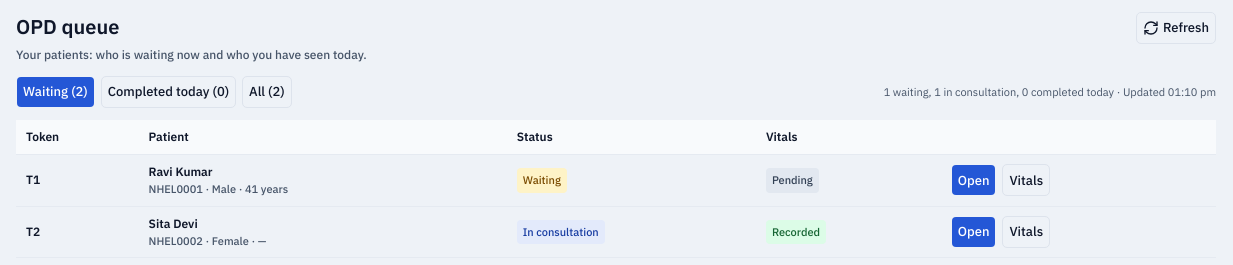
Scenario: OpdQueue › one refresh at a time: the button is disabled while it runs
Click the button "Refresh". click: click(1176, 28)
box: [1136,12,1216,44]
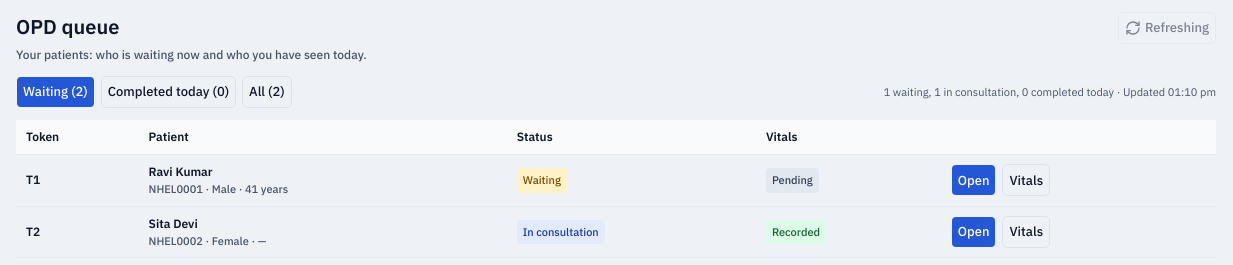
Expected: the button "Refreshing" is disabled
Click the button "Refreshing". click: click(1167, 28)
box: [1118,12,1216,44]
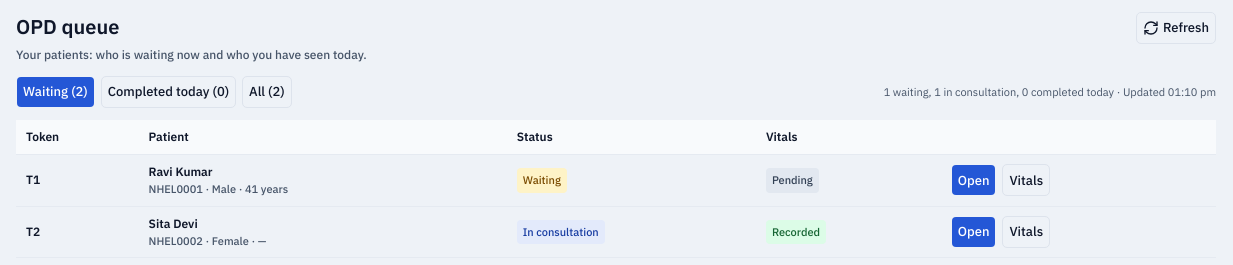
Expected: the button "Refresh" is enabled, [1136,12,1216,44]
